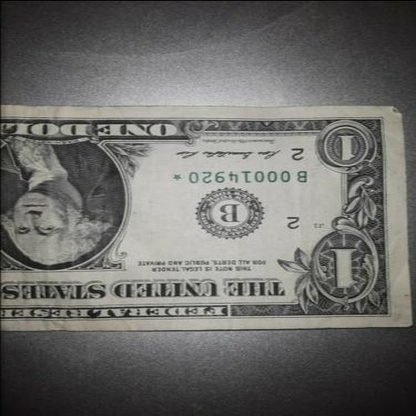one-front: (1, 103, 416, 339)
